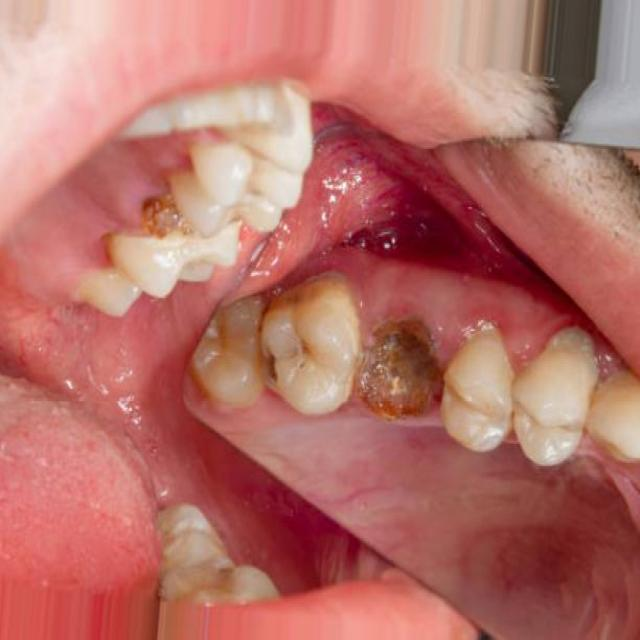caries: (340, 305, 449, 435), (248, 294, 324, 402), (124, 181, 213, 265)
